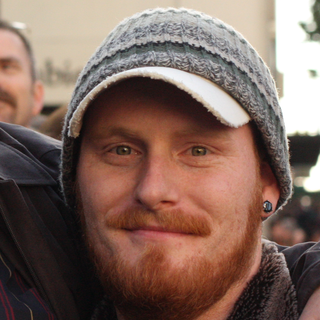eye: (173, 140, 225, 165), (97, 138, 142, 164)
